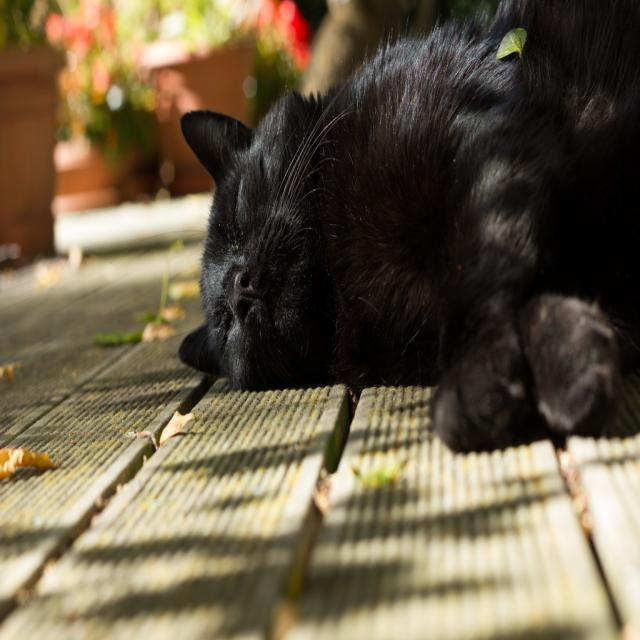Cat: (153, 0, 639, 453)
